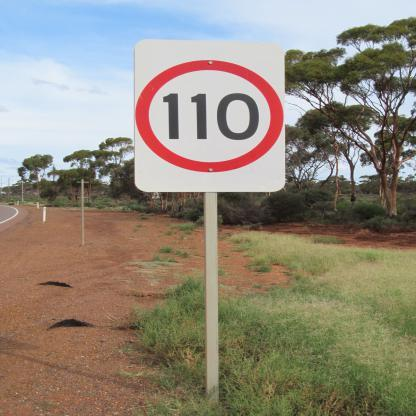Speed Limit 110: (137, 61, 282, 172)
